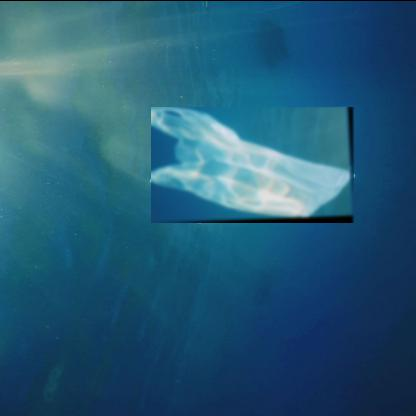plastic-bag: (152, 105, 356, 222)
